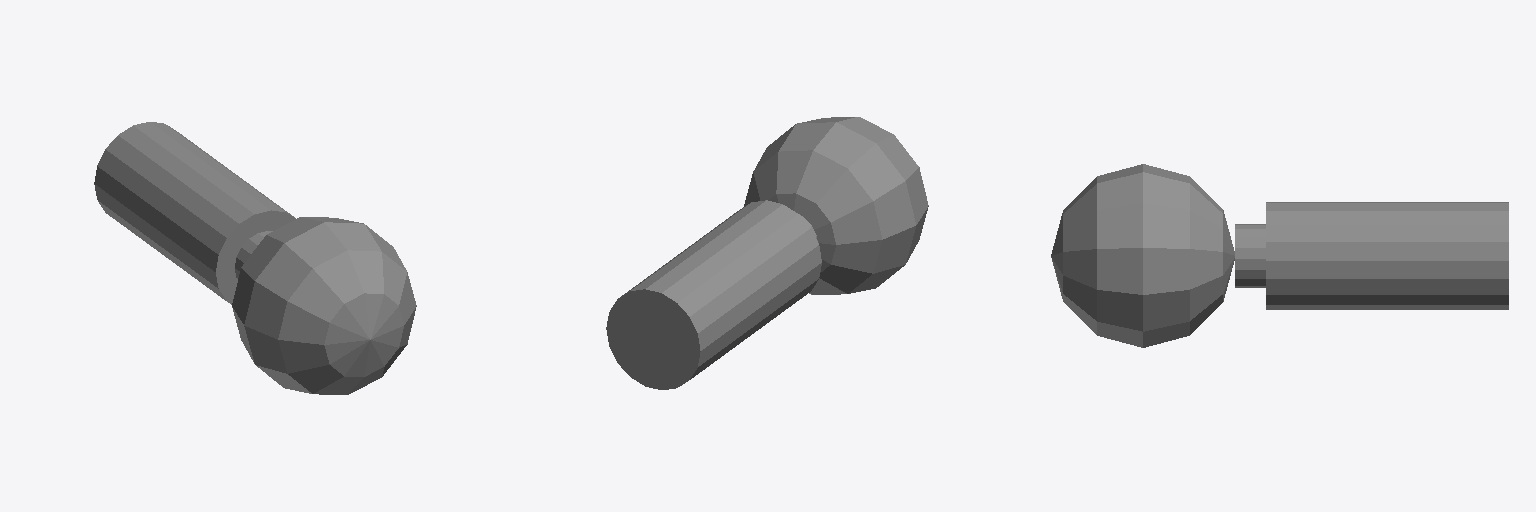
The model's file is player.obj.
3 renders of one model, left to right at view 1: azimuth 30°, elevation 25°; view 2: azimuth 150°, elevation 25°; view 3: azimuth 270°, elevation 25°, orthographic.
Visible parts, largest first — view 1: Sphere001, body; view 2: body, Sphere001; view 3: body, Sphere001.
Part boxes in pixels (x1,y1,x2,y2): Sphere001: (232, 217, 416, 394); body: (94, 122, 295, 304); body: (606, 200, 821, 389); Sphere001: (744, 117, 928, 294); body: (1235, 202, 1508, 309); Sphere001: (1051, 164, 1234, 347).
Size of the model in its own units: 2.81 by 2.81 by 6.97.